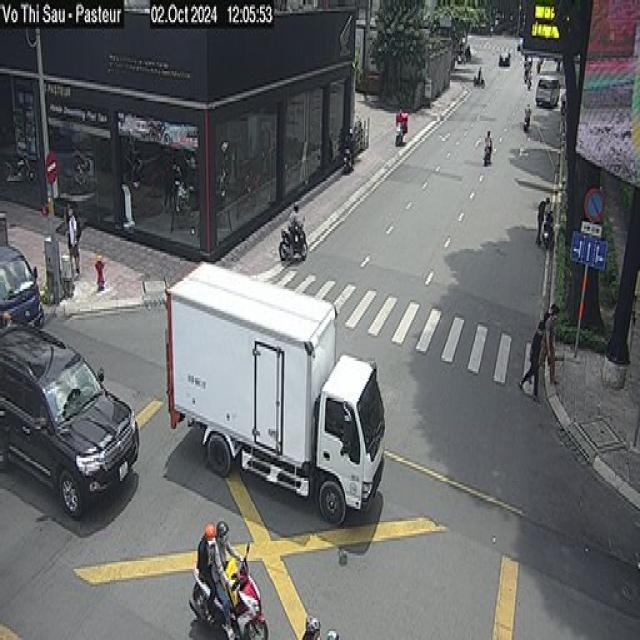car: (0, 313, 142, 522), (537, 78, 560, 107)
motorcycle: (186, 555, 275, 640), (277, 233, 310, 269), (543, 207, 554, 247), (341, 151, 357, 173), (472, 73, 485, 90), (483, 148, 493, 167), (396, 127, 405, 146), (523, 116, 532, 135)
person: (215, 515, 235, 640), (200, 521, 216, 623), (525, 321, 544, 405), (63, 204, 84, 280), (545, 299, 560, 378), (536, 190, 551, 248), (300, 607, 321, 640), (289, 200, 302, 252), (347, 125, 356, 157), (396, 103, 404, 137), (326, 626, 341, 640), (485, 126, 491, 150), (526, 102, 531, 126), (478, 62, 482, 84)
truck: (167, 269, 387, 508), (0, 210, 48, 339)
